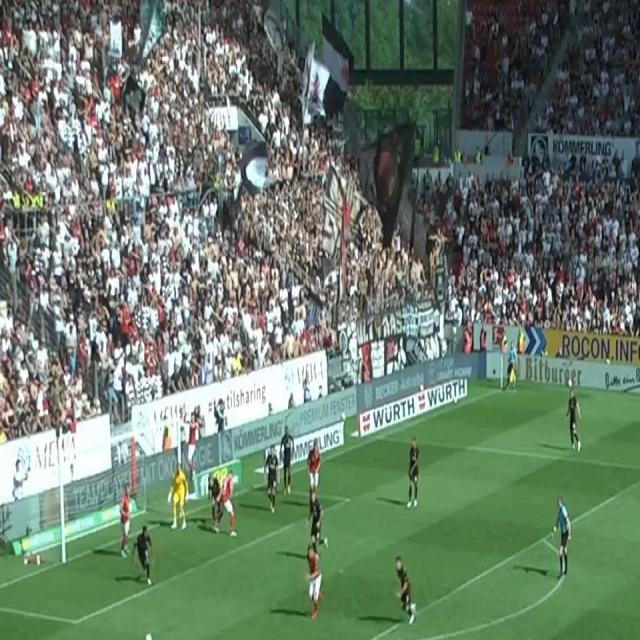ball: (144, 630, 152, 640)
